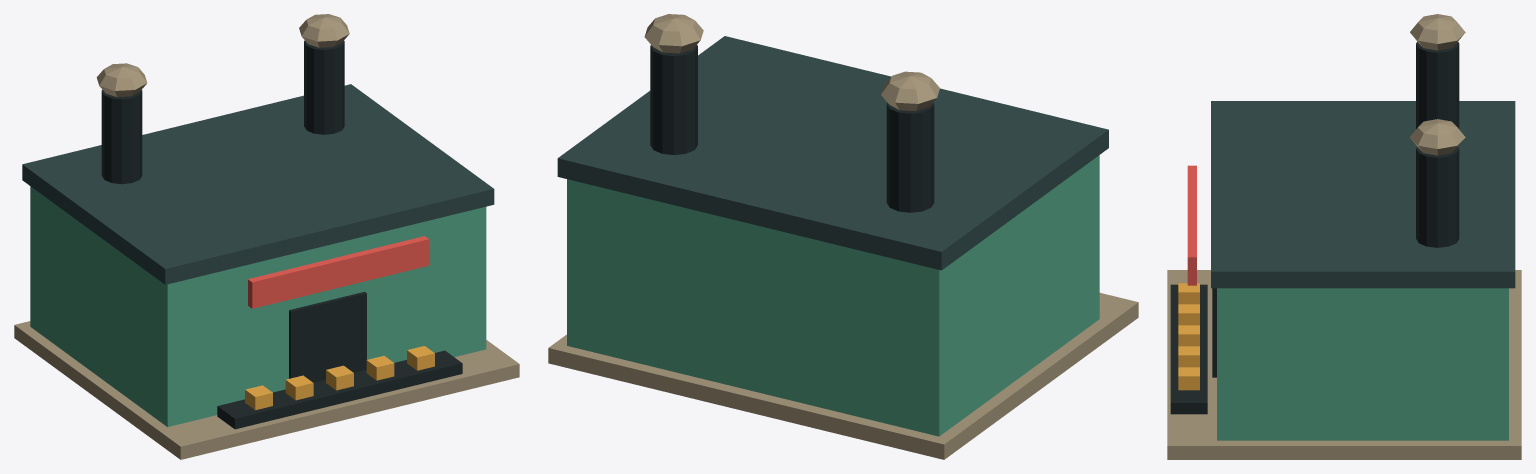
Rendered from ParkParkRobotFactory.obj.
3 views of the same model, side by side, from view 1: azimuth 30°, elevation 25°; view 2: azimuth 150°, elevation 25°; view 3: azimuth 270°, elevation 25° (orthographic). The views are drawn at different scales.
Visible parts, largest first — view 1: ParkParkRobotFactory; view 2: ParkParkRobotFactory; view 3: ParkParkRobotFactory.
Part boxes in pixels (box(x1,y1,x2,y2)): ParkParkRobotFactory: box(14, 14, 519, 459); ParkParkRobotFactory: box(548, 14, 1138, 459); ParkParkRobotFactory: box(1167, 14, 1521, 459).
Bounding box in the file's own units: 13.4 × 10.7 × 11.4.
